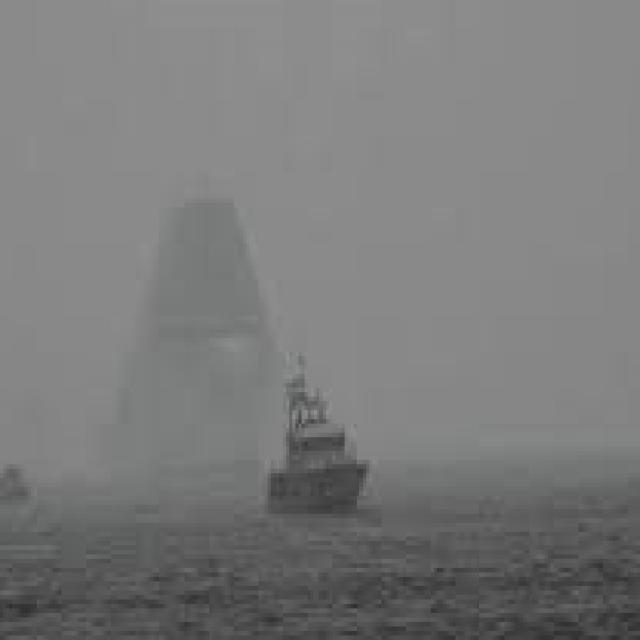houseboat: (260, 351, 380, 513)
